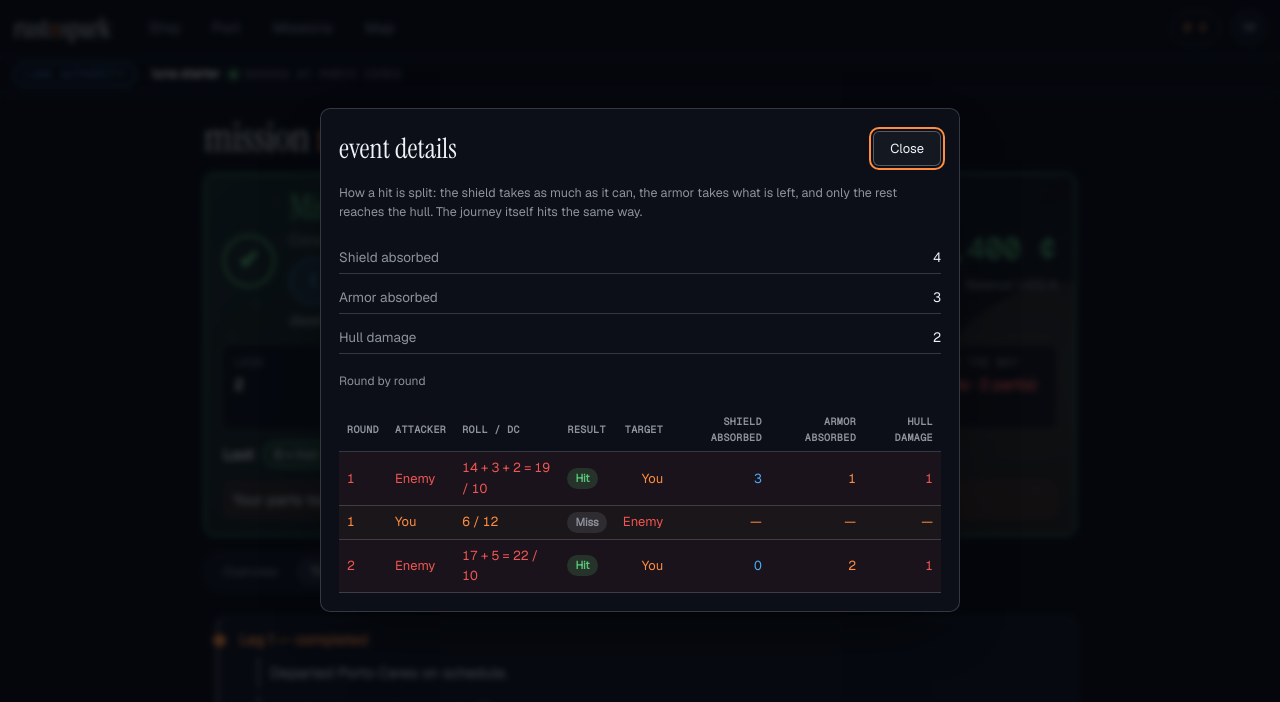
report (S10.8) › a #combat link from the mission history opens the fight's own popup automatically
The image size is (1280, 702).
Expected: the table is shown, [339, 408, 941, 593]
# Closing it must not immediately reopen it (the hash is still #combat afterward).
Click the button "Close" at (907, 149), box [873, 131, 941, 166]
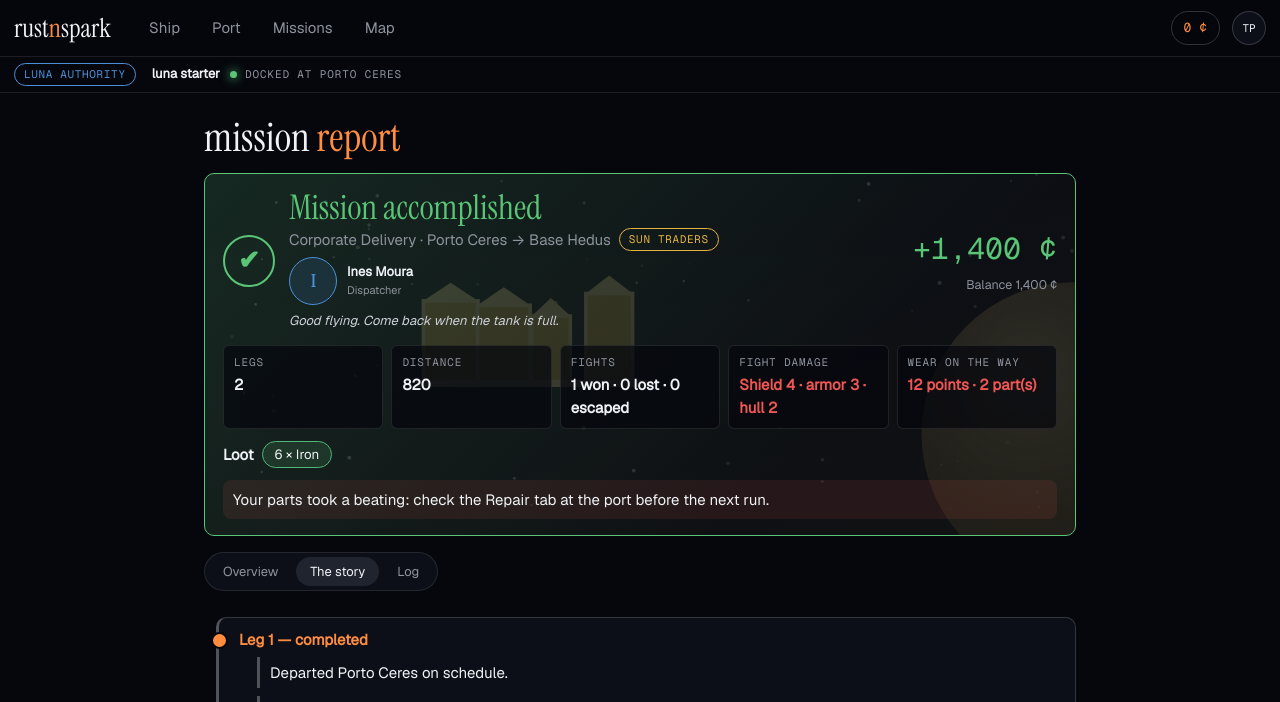
Now the heading "Event details" is gone
